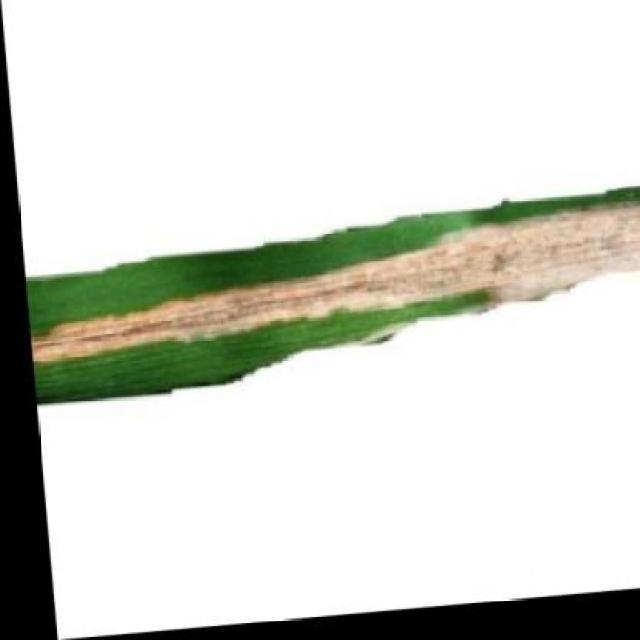Brown_Spot: (15, 184, 640, 418)
